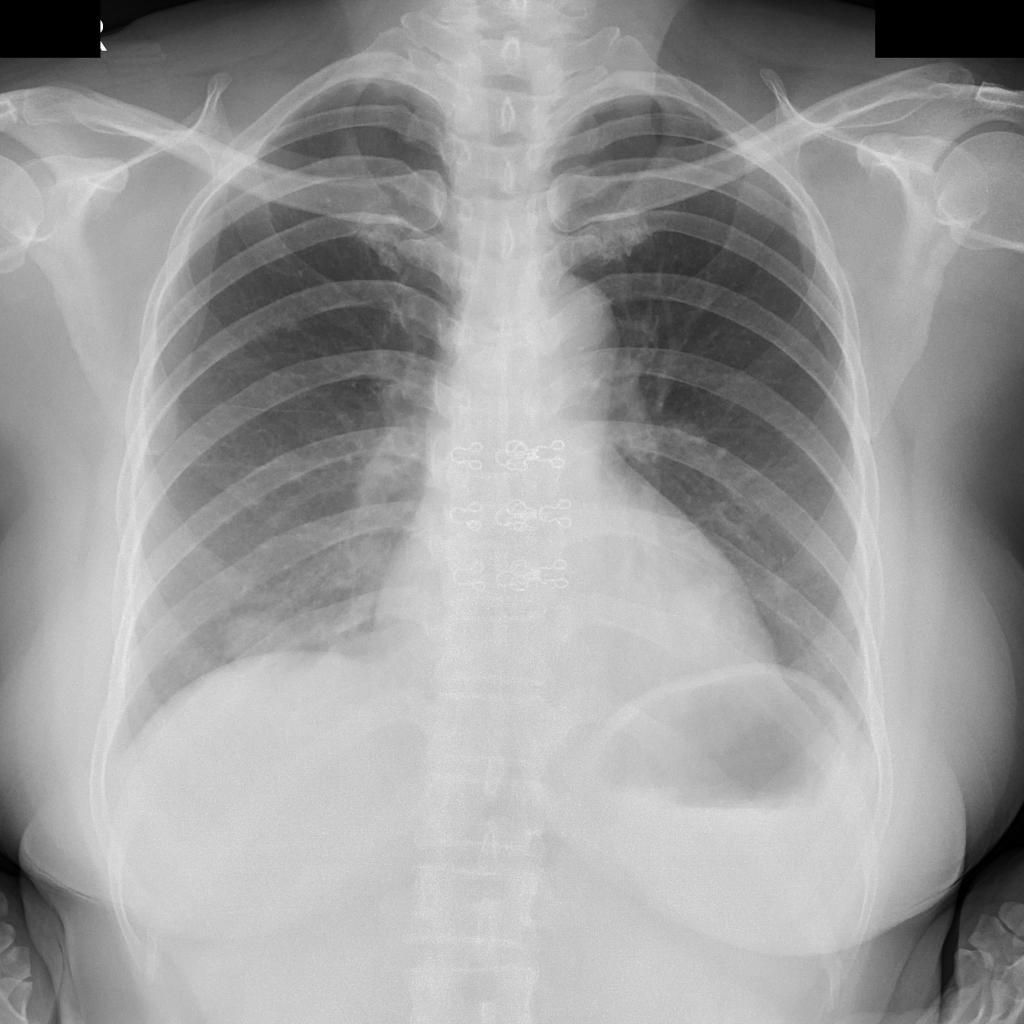Nodule: (223, 612, 304, 675)
